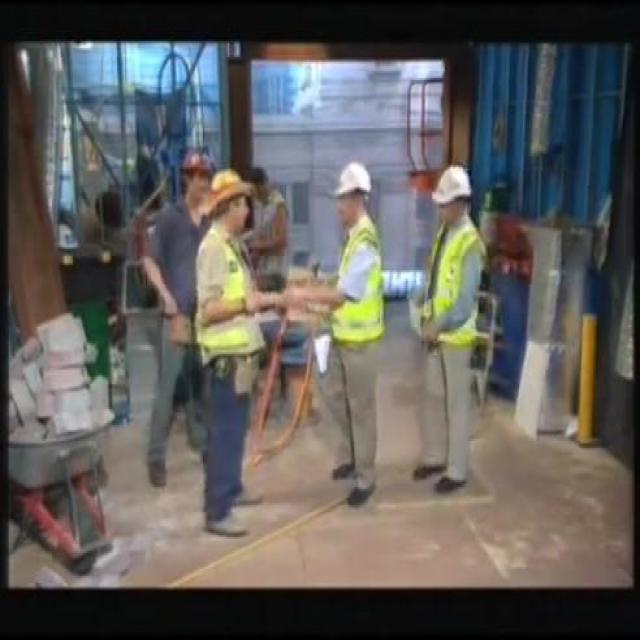Reflective-Jacket: (188, 226, 270, 375), (415, 219, 497, 359), (325, 213, 392, 354)
Safety-Helmet: (203, 160, 261, 220), (428, 156, 479, 210), (328, 155, 378, 206), (172, 140, 220, 185)
